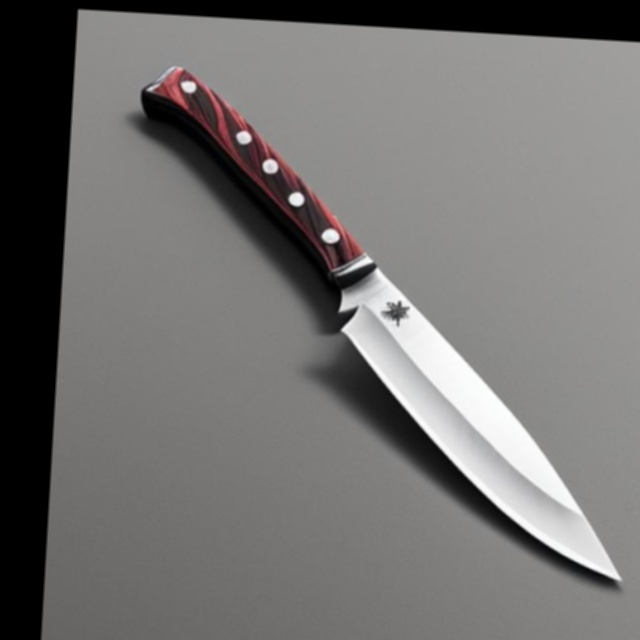Sharp-Object: (110, 58, 640, 592)
